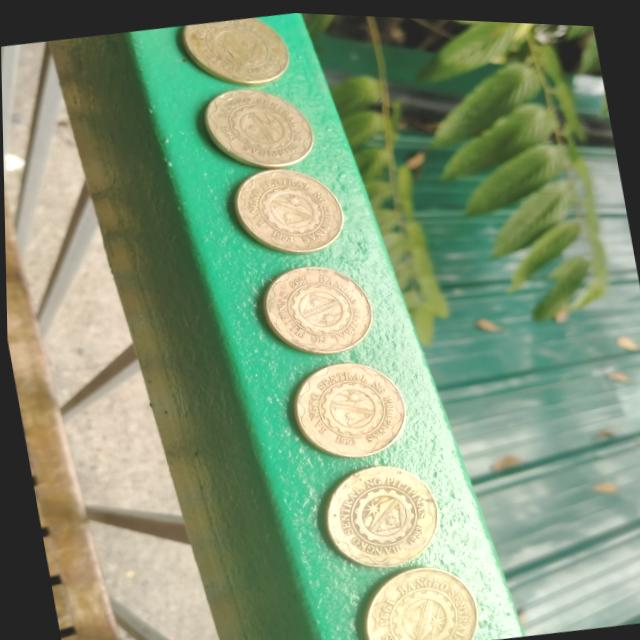5_Old_Back: (293, 355, 410, 458), (324, 462, 437, 567)
